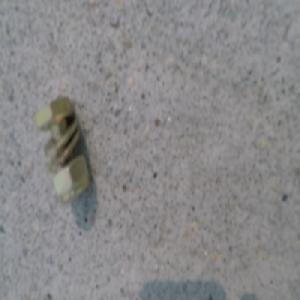BoltNutSet: (51, 103, 102, 208)
